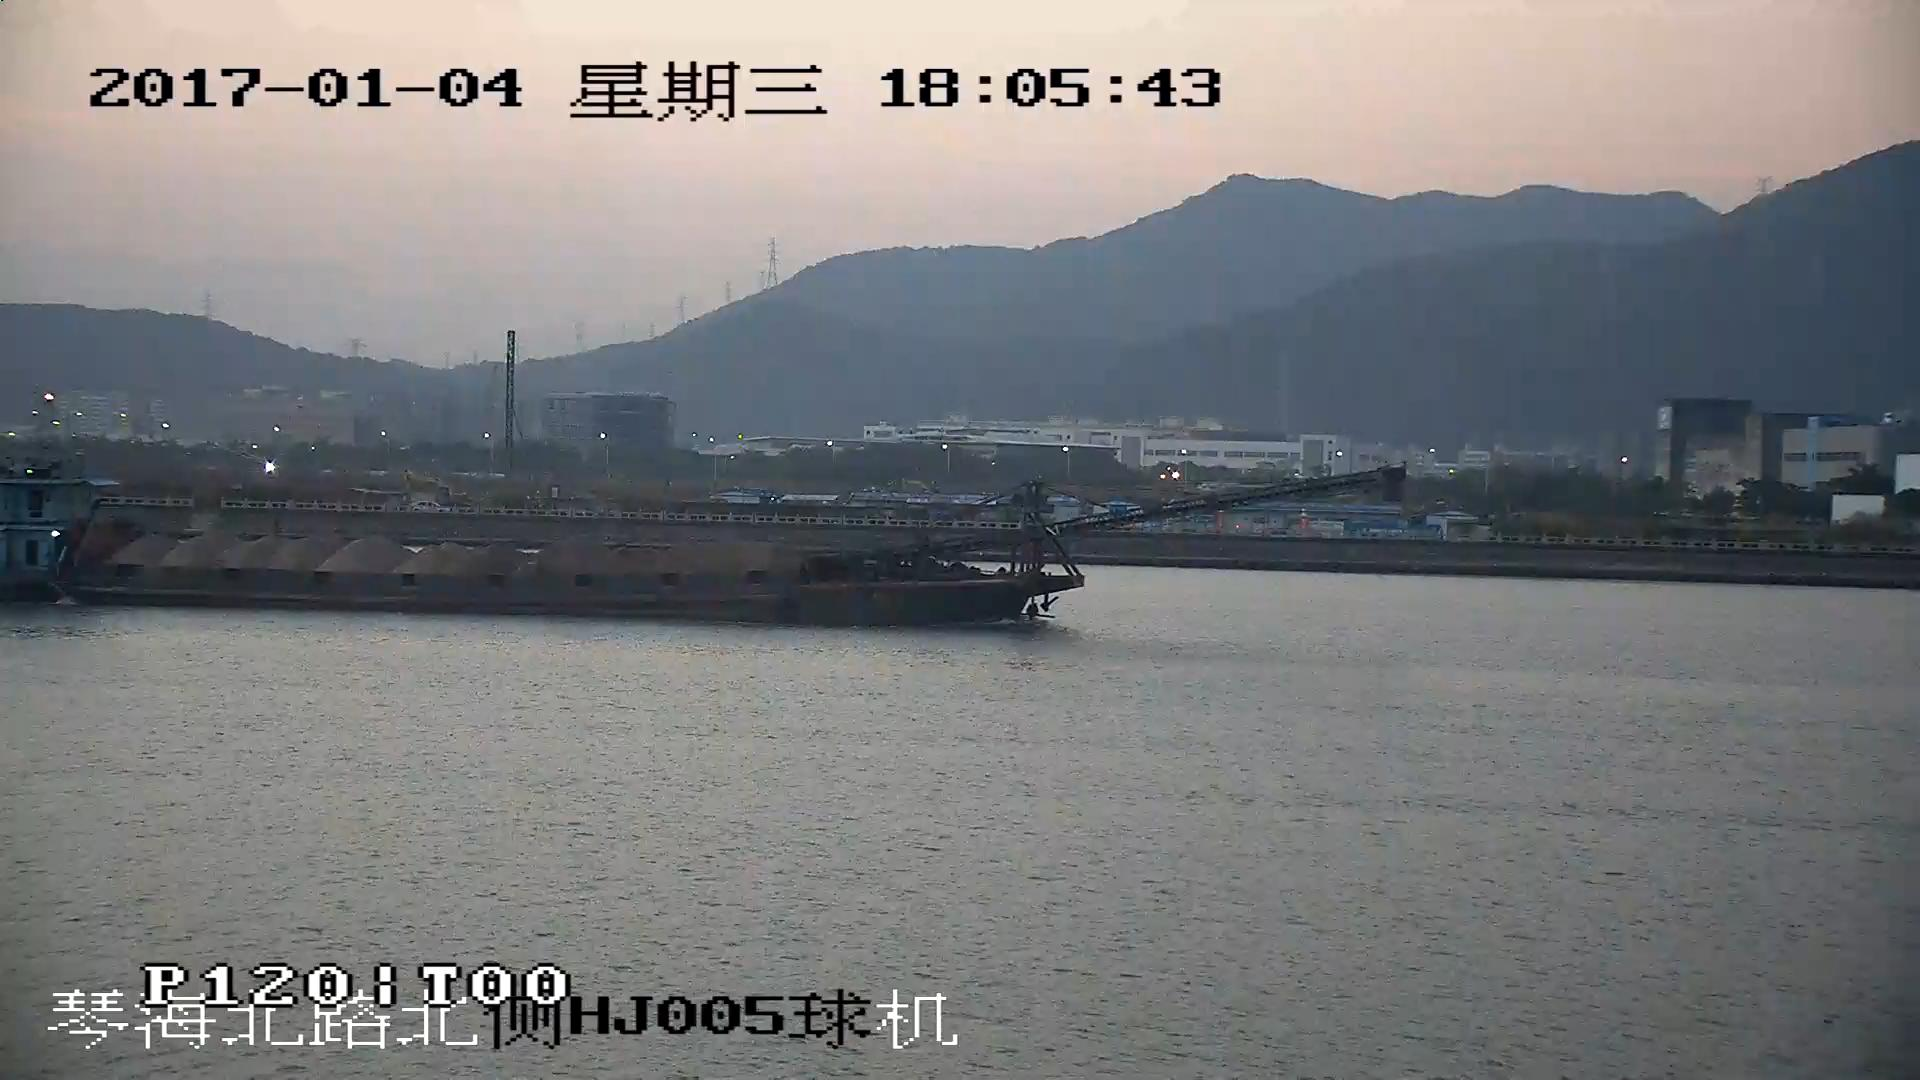ore carrier: (1, 463, 1401, 626)
